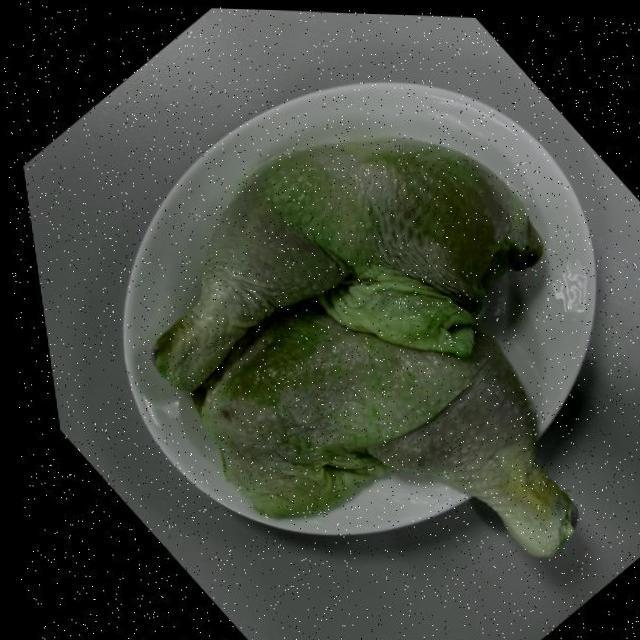quater: (134, 118, 546, 388), (210, 300, 570, 562)
